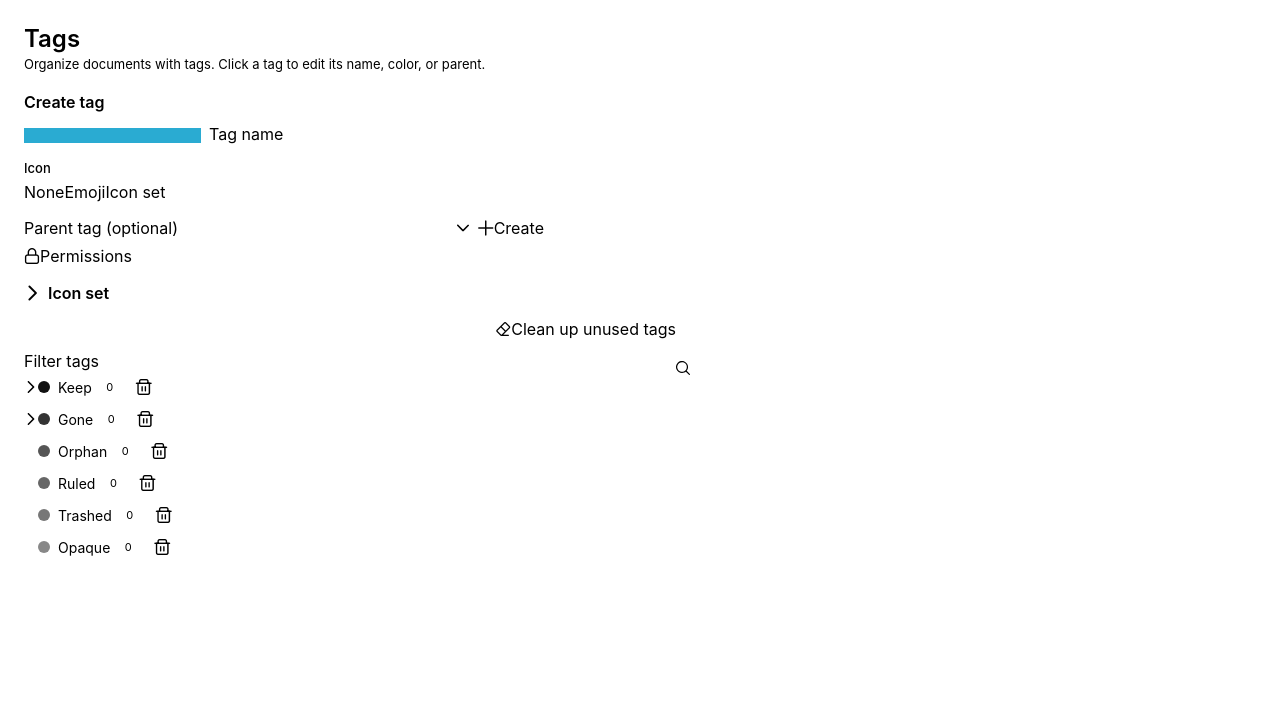
Test: TagList — deleting unused tags from the management tree (#298 parts 1 and 2) › reports the tags the server kept because they became used mid-sweep
Click the button with class "tag-cleanup-btn": coordinates (586, 329) 495,319 -> 676,339
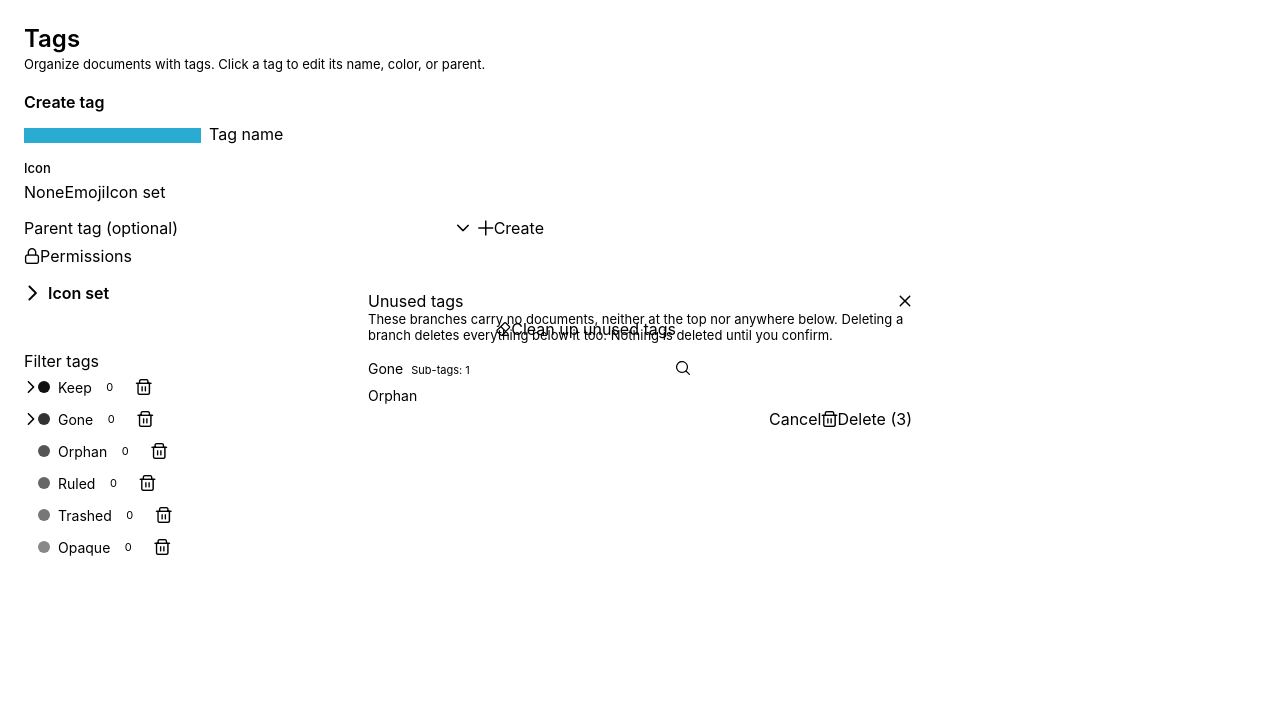
Click the button with class "cleanup-confirm-btn": coordinates (867, 419) 822,409 -> 912,429
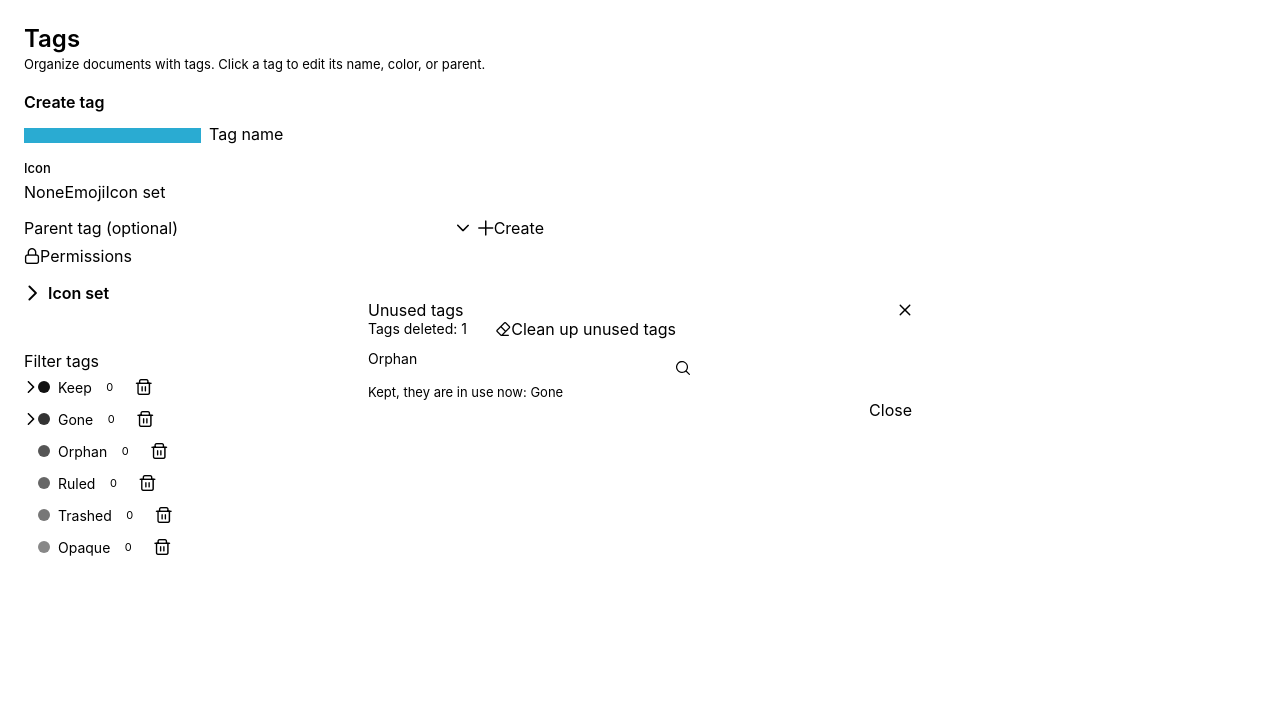
expect the text with class "cleanup-skipped" shows "Gone": met, box 368,384 -> 563,400
expect the element with class "cleanup-result" shows "Orphan": met, box 368,350 -> 417,367
